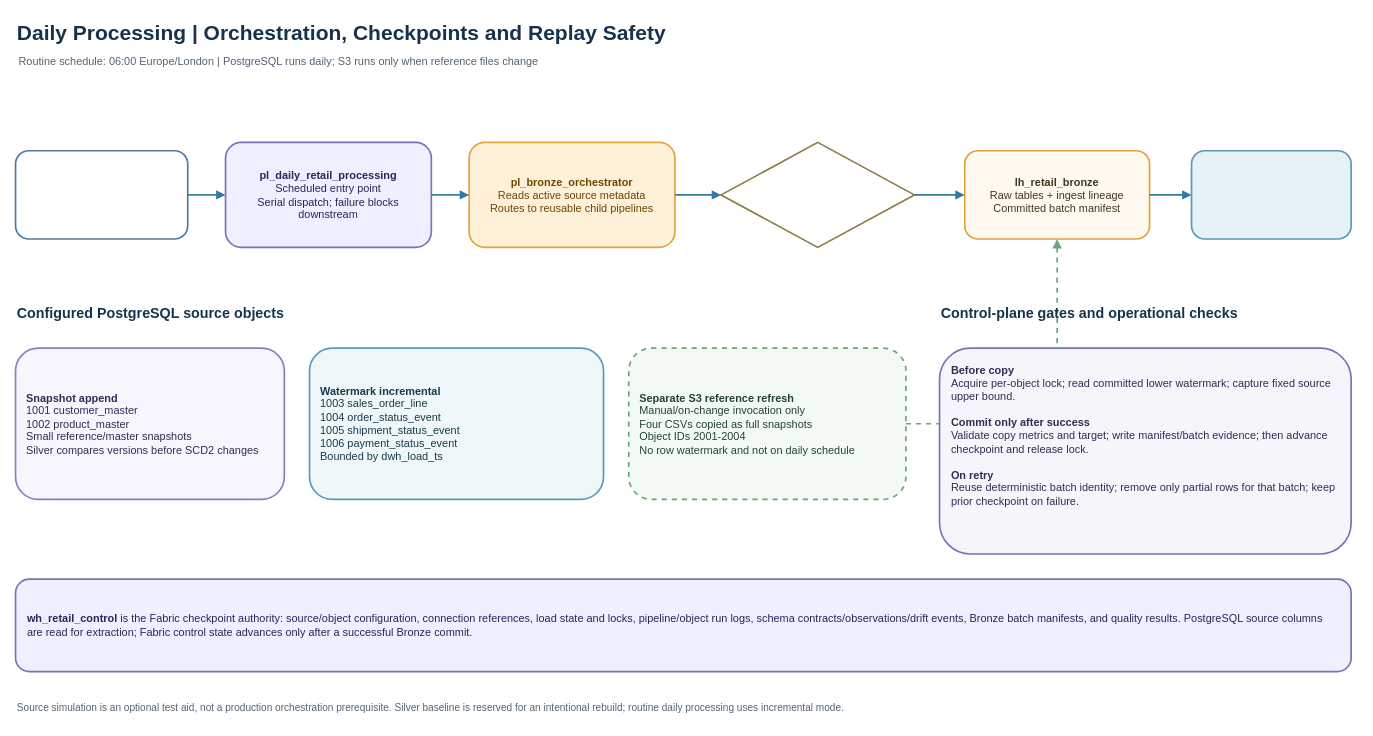
Some shapes in this 1373 by 736 pixel diagram are drawn without their labels. The shapes that lost their labels are listed below. From the top down, each one's centre as x and y in pixels, then its label:
point 101,194: PostgreSQL source retail_oi tables Changes arrive independently
point 817,194: Dispatch by load strategy snapshot_append or watermark_incremental
point 1271,194: pl_silver_orchestrator load_mode=incremental Processes committed Bronze arrivals
